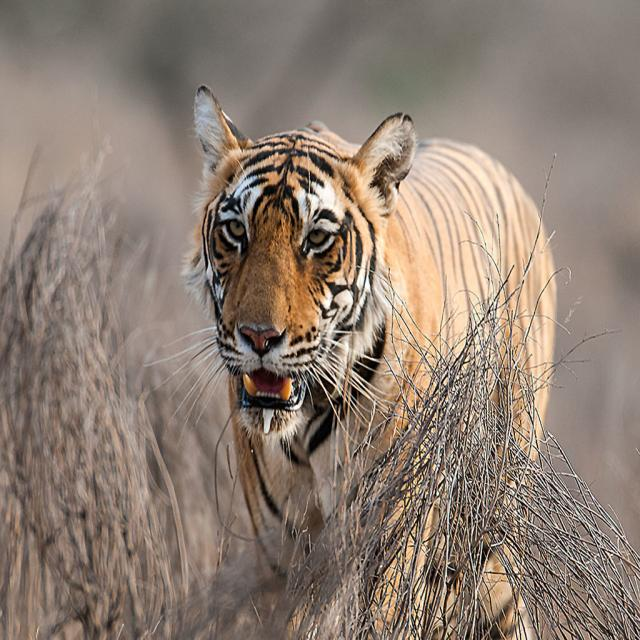Tiger: (138, 80, 559, 640)
